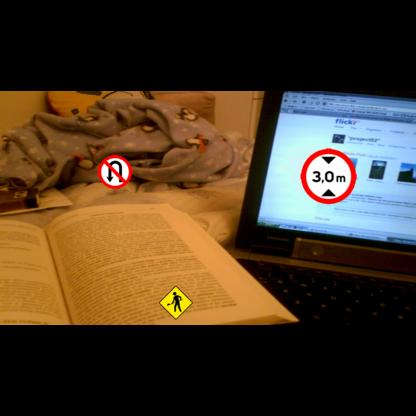A-24: (159, 285, 193, 320)
R-15: (301, 148, 356, 204)
R-5a: (98, 155, 132, 188)
